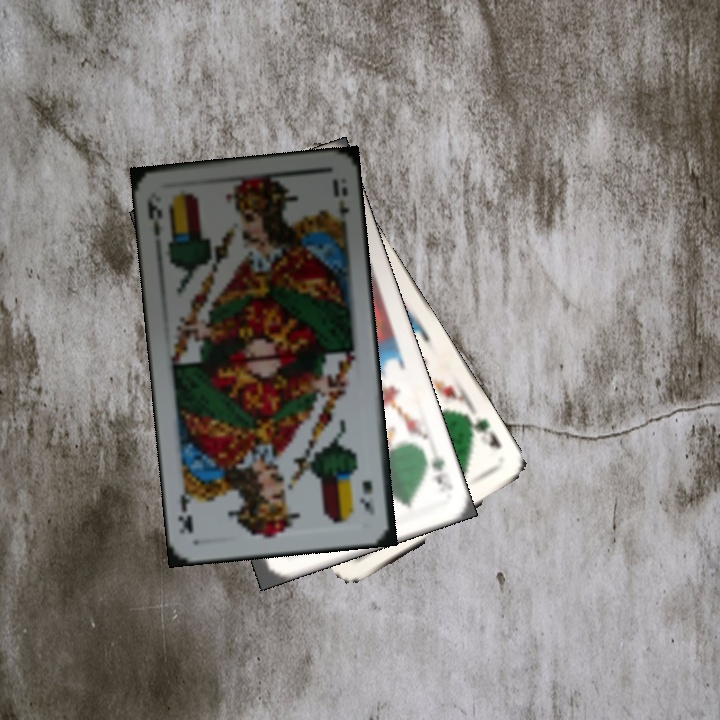EK: (356, 476, 378, 519), (143, 195, 164, 239)
GK: (465, 414, 504, 451), (427, 450, 456, 495)
